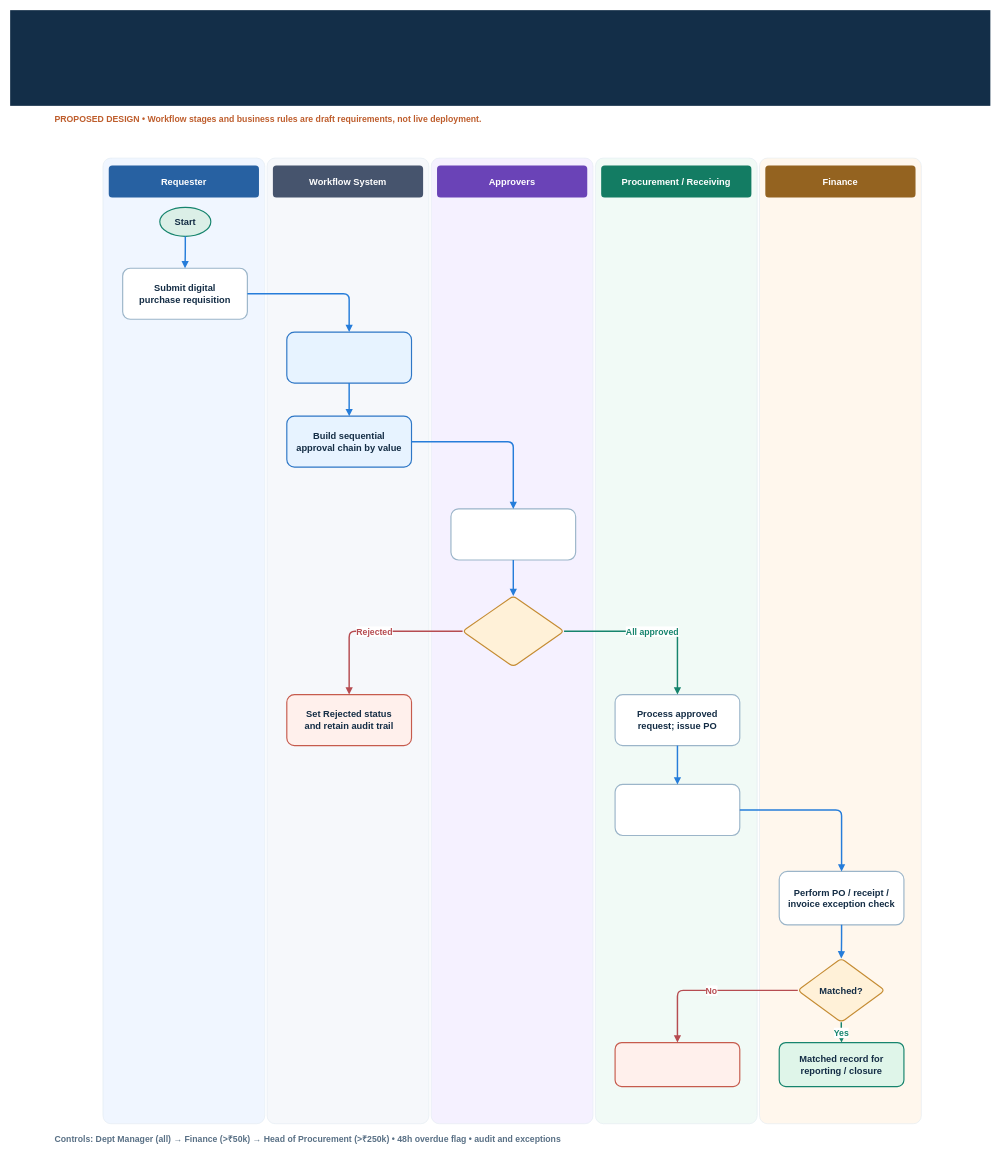
Some shapes in this 1000 by 1160 pixel diagram are drawn without their labels. The centre of each missing label's shape, as x and y in pixels:
"All required stages approved?" belongs at (513,631).
"Exception for finance review / resolution" belongs at (677,1064).
"Record delivery and goods received" belongs at (677,810).
"Review required stages sequentially; decide" belongs at (513,534).
"TO-BE — Proposed Process Proposed workflow (draft requirements)" belongs at (500,58).
"Validate fields and calculate amount" belongs at (349,357).
